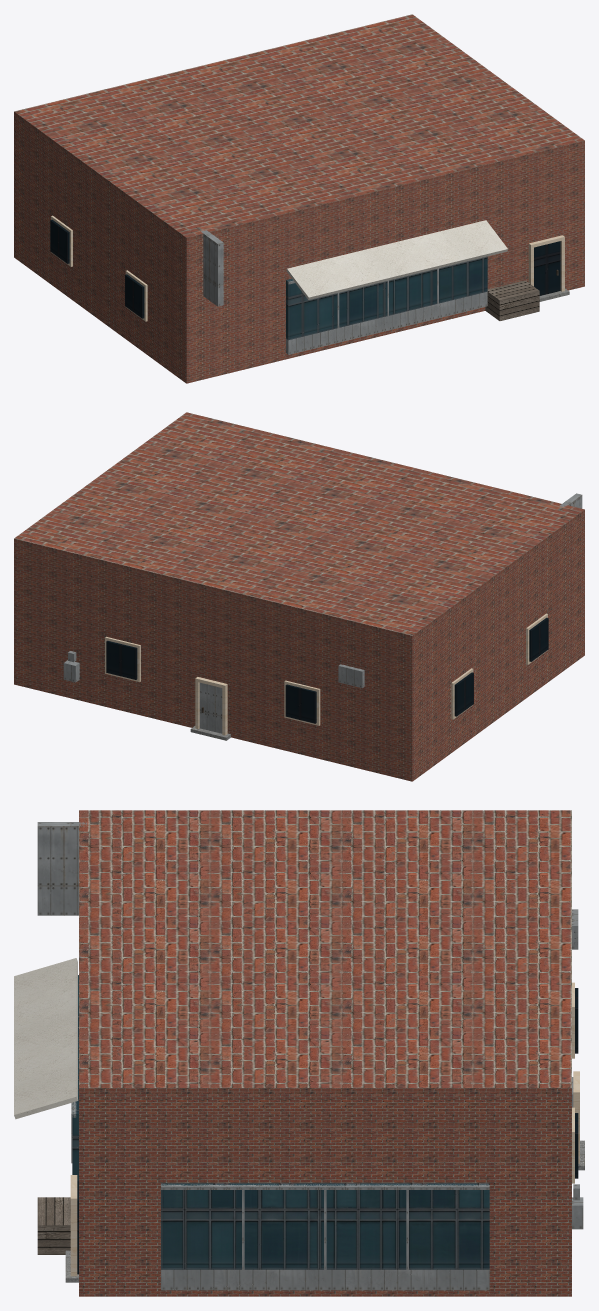
File: corner-grocery_lod0.gltf
3 views of the same model, one above another, from view 1: azimuth 30°, elevation 25°; view 2: azimuth 150°, elevation 25°; view 3: azimuth 270°, elevation 25° (orthographic). The views are drawn at different scales.
Parts seen in each view (by area): view 1: corner-grocery_main, corner-grocery__awning, corner-grocery_fen_07-glass-curtain-blue_1, corner-grocery_fen_14-steel-panel_0, corner-grocery_fen_07-glass-curtain-blue_3_t, corner-grocery__crates, corner-grocery__blade_sign, corner-grocery_fen_04-limestone_2; view 2: corner-grocery_main, corner-grocery_fen_07-glass-curtain-blue_3_t, corner-grocery_fen_04-limestone_2, corner-grocery_fen_14-steel-panel_0; view 3: corner-grocery_main, corner-grocery_fen_07-glass-curtain-blue_1, corner-grocery_fen_14-steel-panel_0, corner-grocery__awning, corner-grocery__blade_sign, corner-grocery__crates, corner-grocery_fen_04-limestone_2, corner-grocery_fen_07-glass-curtain-blue_3_t.
Part boxes in pixels (x1,y1,x2,y2): corner-grocery_main: (14,14,584,383); corner-grocery__awning: (286,220,507,299); corner-grocery_fen_07-glass-curtain-blue_1: (286,256,487,340); corner-grocery_fen_14-steel-panel_0: (286,268,487,354); corner-grocery_fen_07-glass-curtain-blue_3_t: (50,219,560,318); corner-grocery__crates: (485,280,539,320); corner-grocery__blade_sign: (201,230,223,306); corner-grocery_fen_04-limestone_2: (51,215,564,321); corner-grocery_main: (14,412,584,781); corner-grocery_fen_07-glass-curtain-blue_3_t: (106,617,548,723); corner-grocery_fen_04-limestone_2: (105,613,547,735); corner-grocery_fen_14-steel-panel_0: (63,651,364,733); corner-grocery_main: (79,810,571,1296); corner-grocery_fen_07-glass-curtain-blue_1: (72,975,489,1269); corner-grocery_fen_14-steel-panel_0: (71,909,583,1290); corner-grocery__awning: (14,958,77,1119); corner-grocery__blade_sign: (37,822,86,915); corner-grocery__crates: (37,1197,70,1254); corner-grocery_fen_04-limestone_2: (70,982,579,1276); corner-grocery_fen_07-glass-curtain-blue_3_t: (77,988,578,1274).
Bounding box in the file's own units: 20.43 × 7.02 × 17.37.
